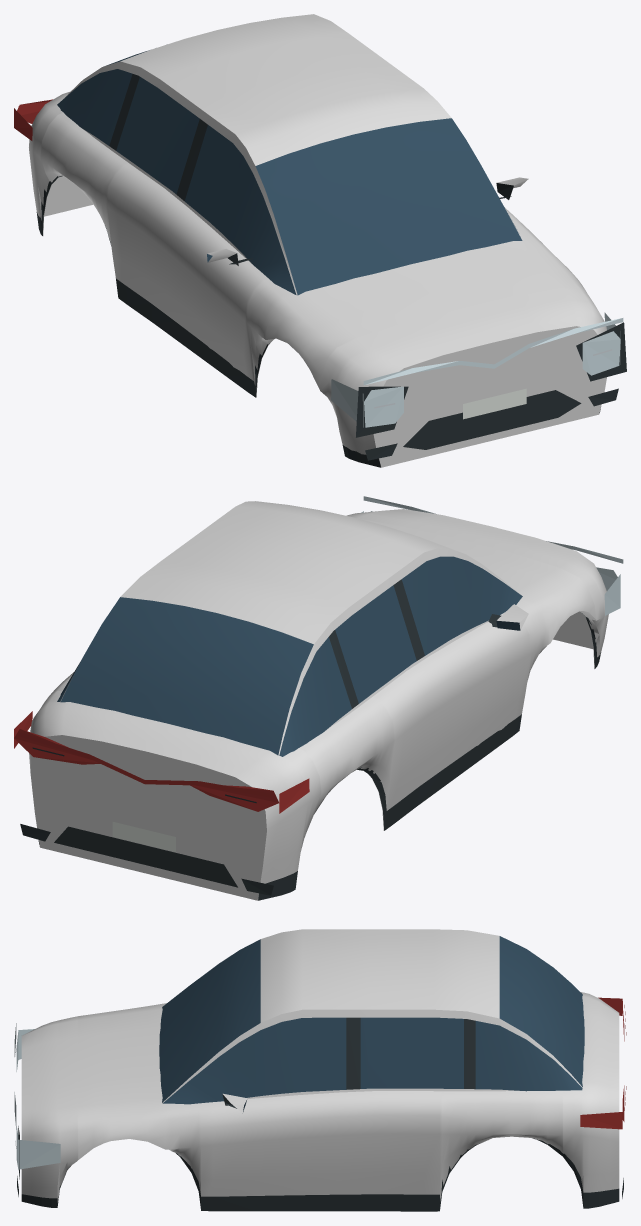
Rendered from veh_vf6-lod1.glb.
3 renders of one model, top to bottom at view 1: azimuth 30°, elevation 25°; view 2: azimuth 150°, elevation 25°; view 3: azimuth 270°, elevation 25°, orthographic. The views are drawn at different scales.
Visible parts, largest first — view 1: paint, glass, trim, head, plate, tail; view 2: paint, glass, trim, tail, head, plate; view 3: paint, glass, trim, head, tail.
Boxes of the visible parts, left/top/right/bottom form: paint: left=29, top=14, right=606, bottom=467; glass: left=57, top=50, right=522, bottom=295; trim: left=36, top=74, right=626, bottom=467; head: left=331, top=312, right=623, bottom=427; plate: left=463, top=388, right=526, bottom=419; tail: left=14, top=99, right=52, bottom=140; paint: left=29, top=501, right=608, bottom=900; glass: left=57, top=556, right=522, bottom=756; trim: left=20, top=579, right=601, bottom=900; tail: left=14, top=711, right=309, bottom=813; head: left=361, top=496, right=623, bottom=615; plate: left=112, top=822, right=175, bottom=852; paint: left=21, top=929, right=619, bottom=1202; glass: left=159, top=936, right=584, bottom=1111; trim: left=17, top=1017, right=623, bottom=1211; head: left=14, top=1023, right=60, bottom=1169; tail: left=580, top=997, right=626, bottom=1129.
Size of the model in its own units: 1.51 by 1.01 by 2.9.
